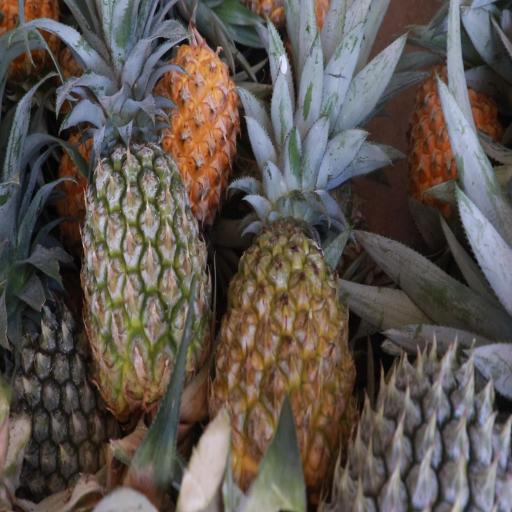------------------------------: (80, 132, 211, 410)
Pineapple - v8 v1: (209, 184, 351, 494), (94, 36, 238, 182), (402, 74, 493, 198)
